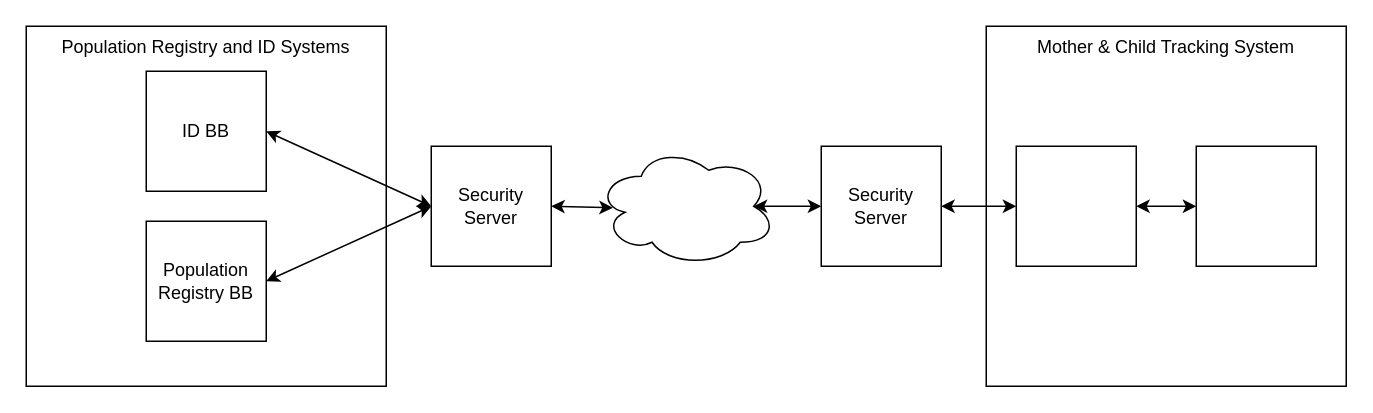
Some shapes in this 1373 by 413 pixel diagram are drawn without their labels. Each missing label, with the centre of its shape:
"Information Mediation BB" belongs at (1075,205).
"Registration BB" belongs at (1255,205).
